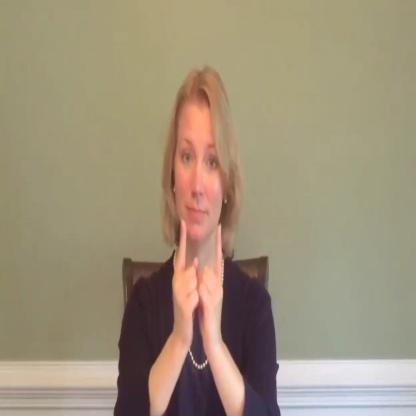NiceToMeetYou: (116, 54, 284, 416)
